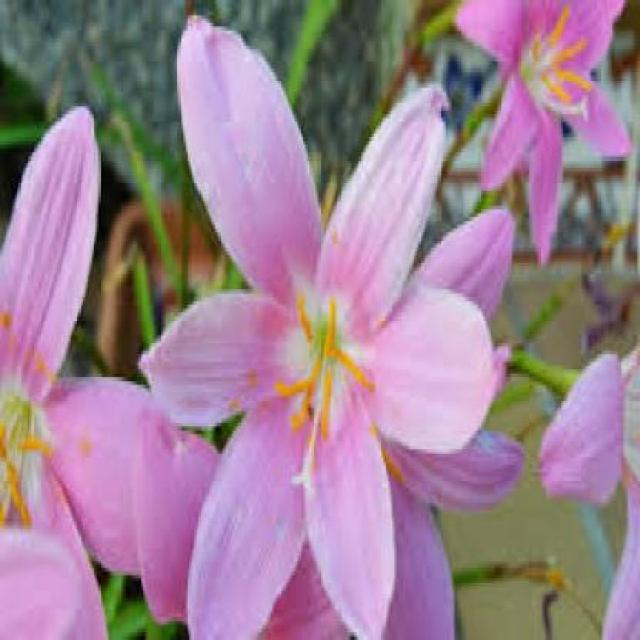saffron open: (141, 19, 505, 640), (456, 0, 630, 263)
